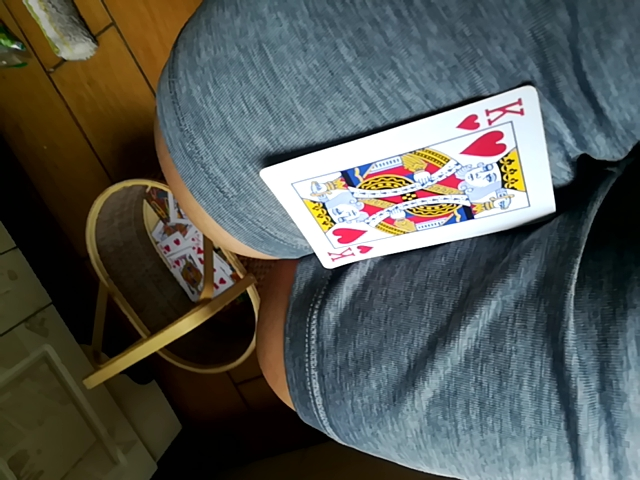hx k: (262, 88, 555, 270)
